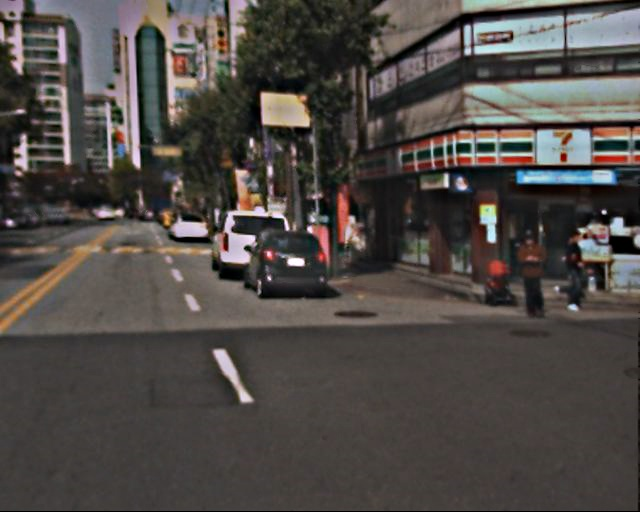person: (515, 233, 556, 317), (557, 228, 597, 312)
